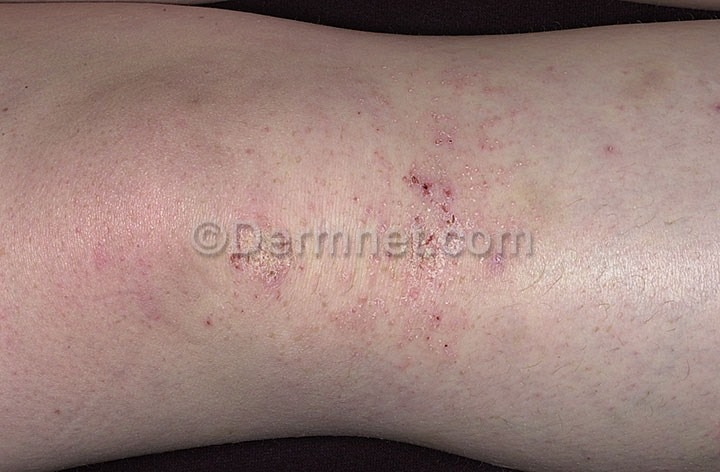Eczema: (55, 85, 597, 385)
